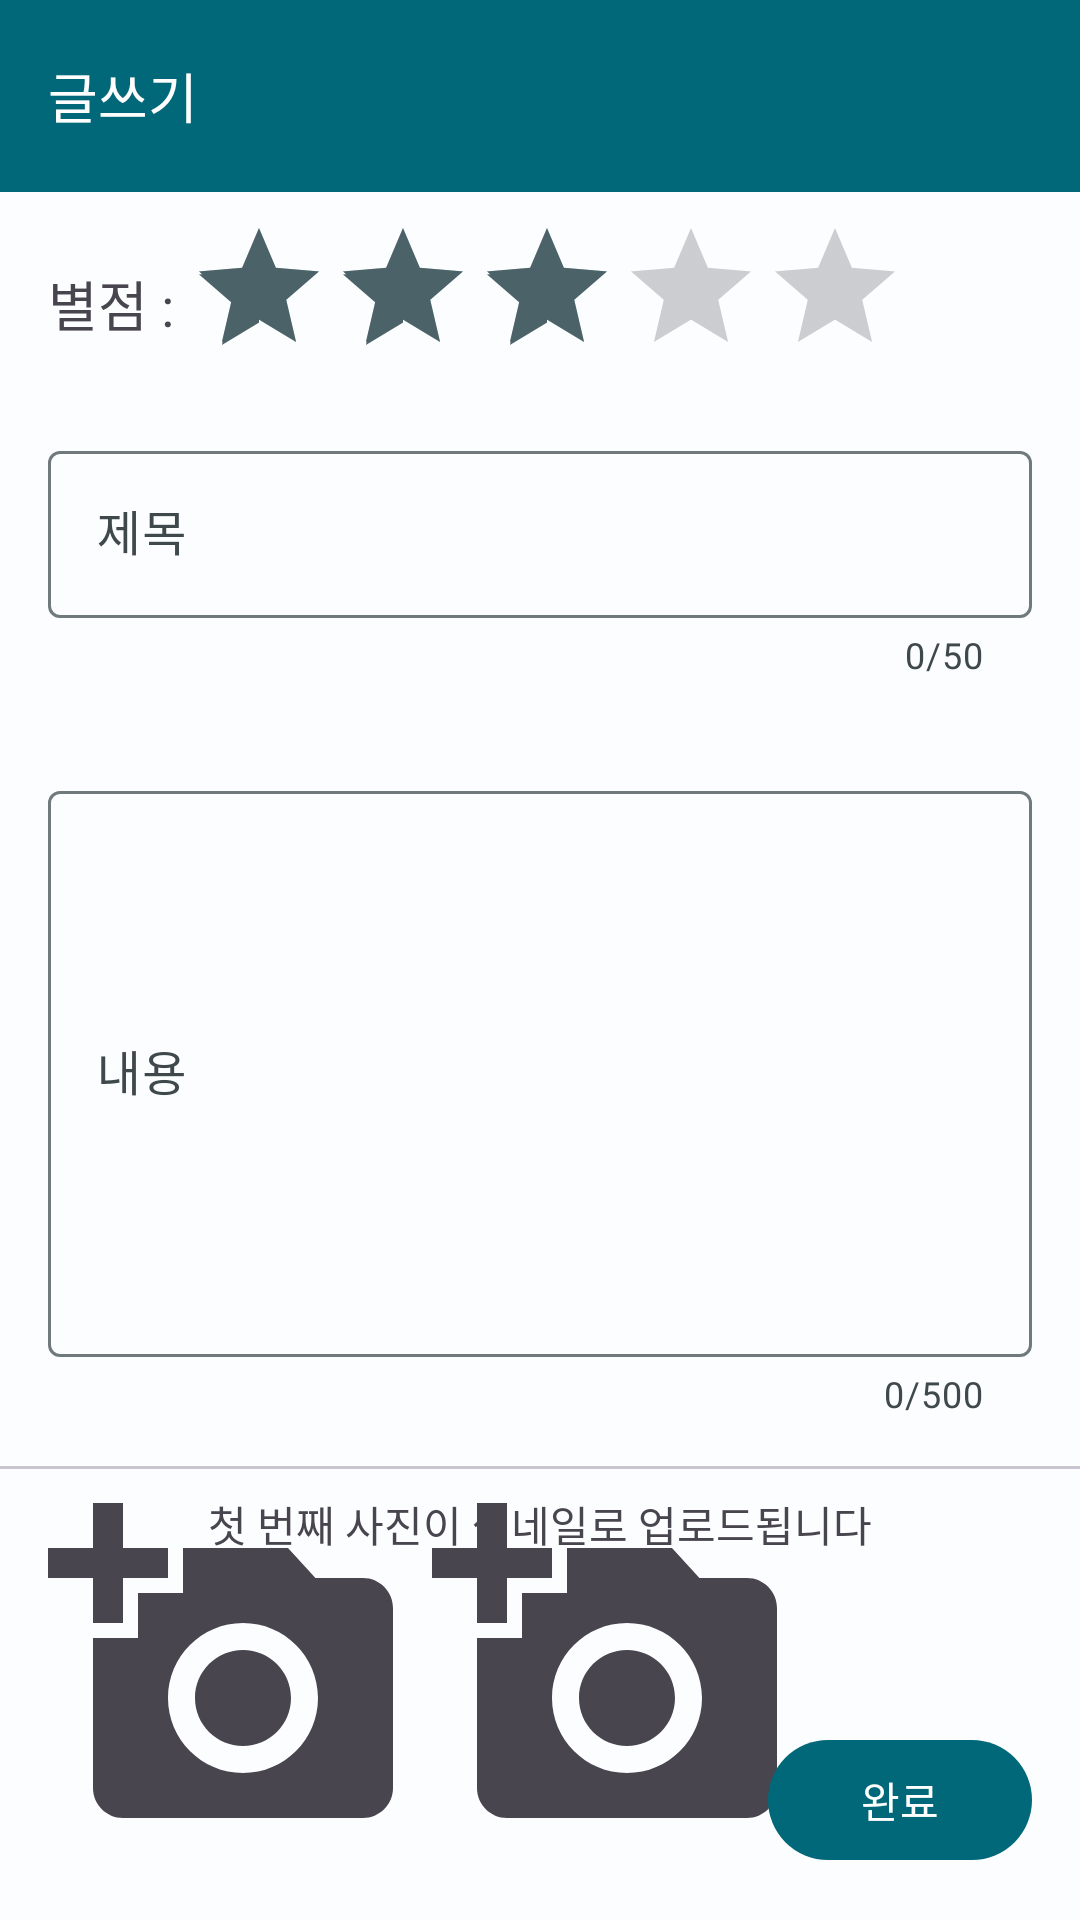

Screen size 1080w x 1920h. Icon name, then its box in pixels as (x1, y1, x2, y2):
add photo: (48, 1503, 408, 1818), (432, 1503, 792, 1848)
